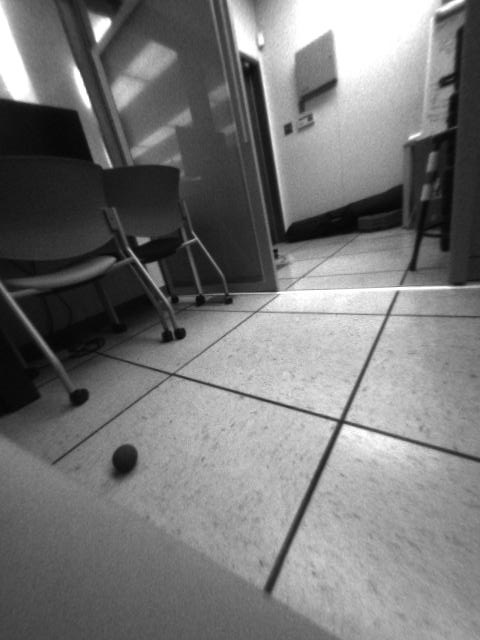dogtoy: (100, 435, 143, 480)
